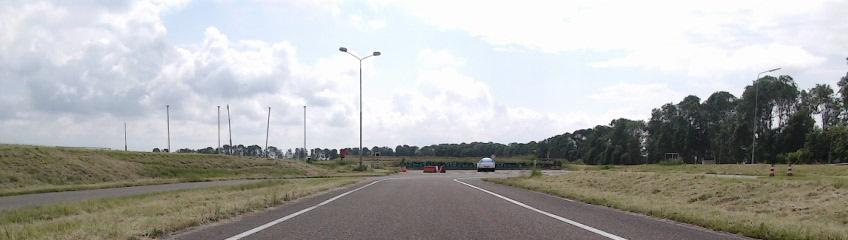Car: (477, 157, 495, 172)
